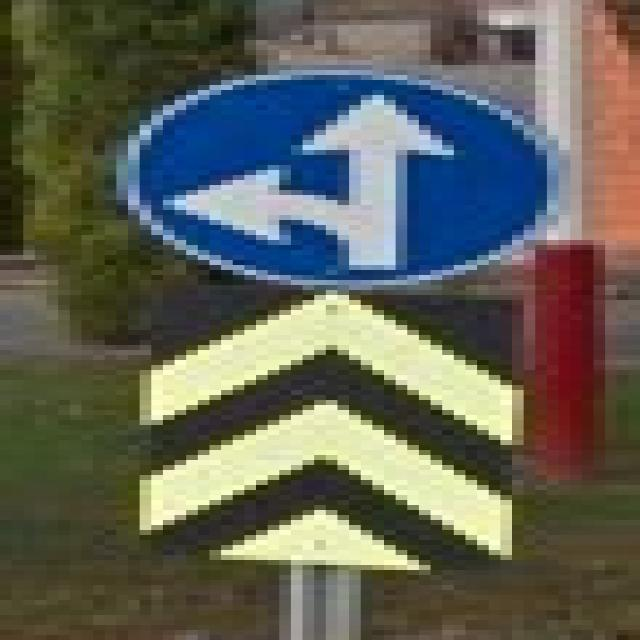Straight or Left: (123, 74, 554, 284)
